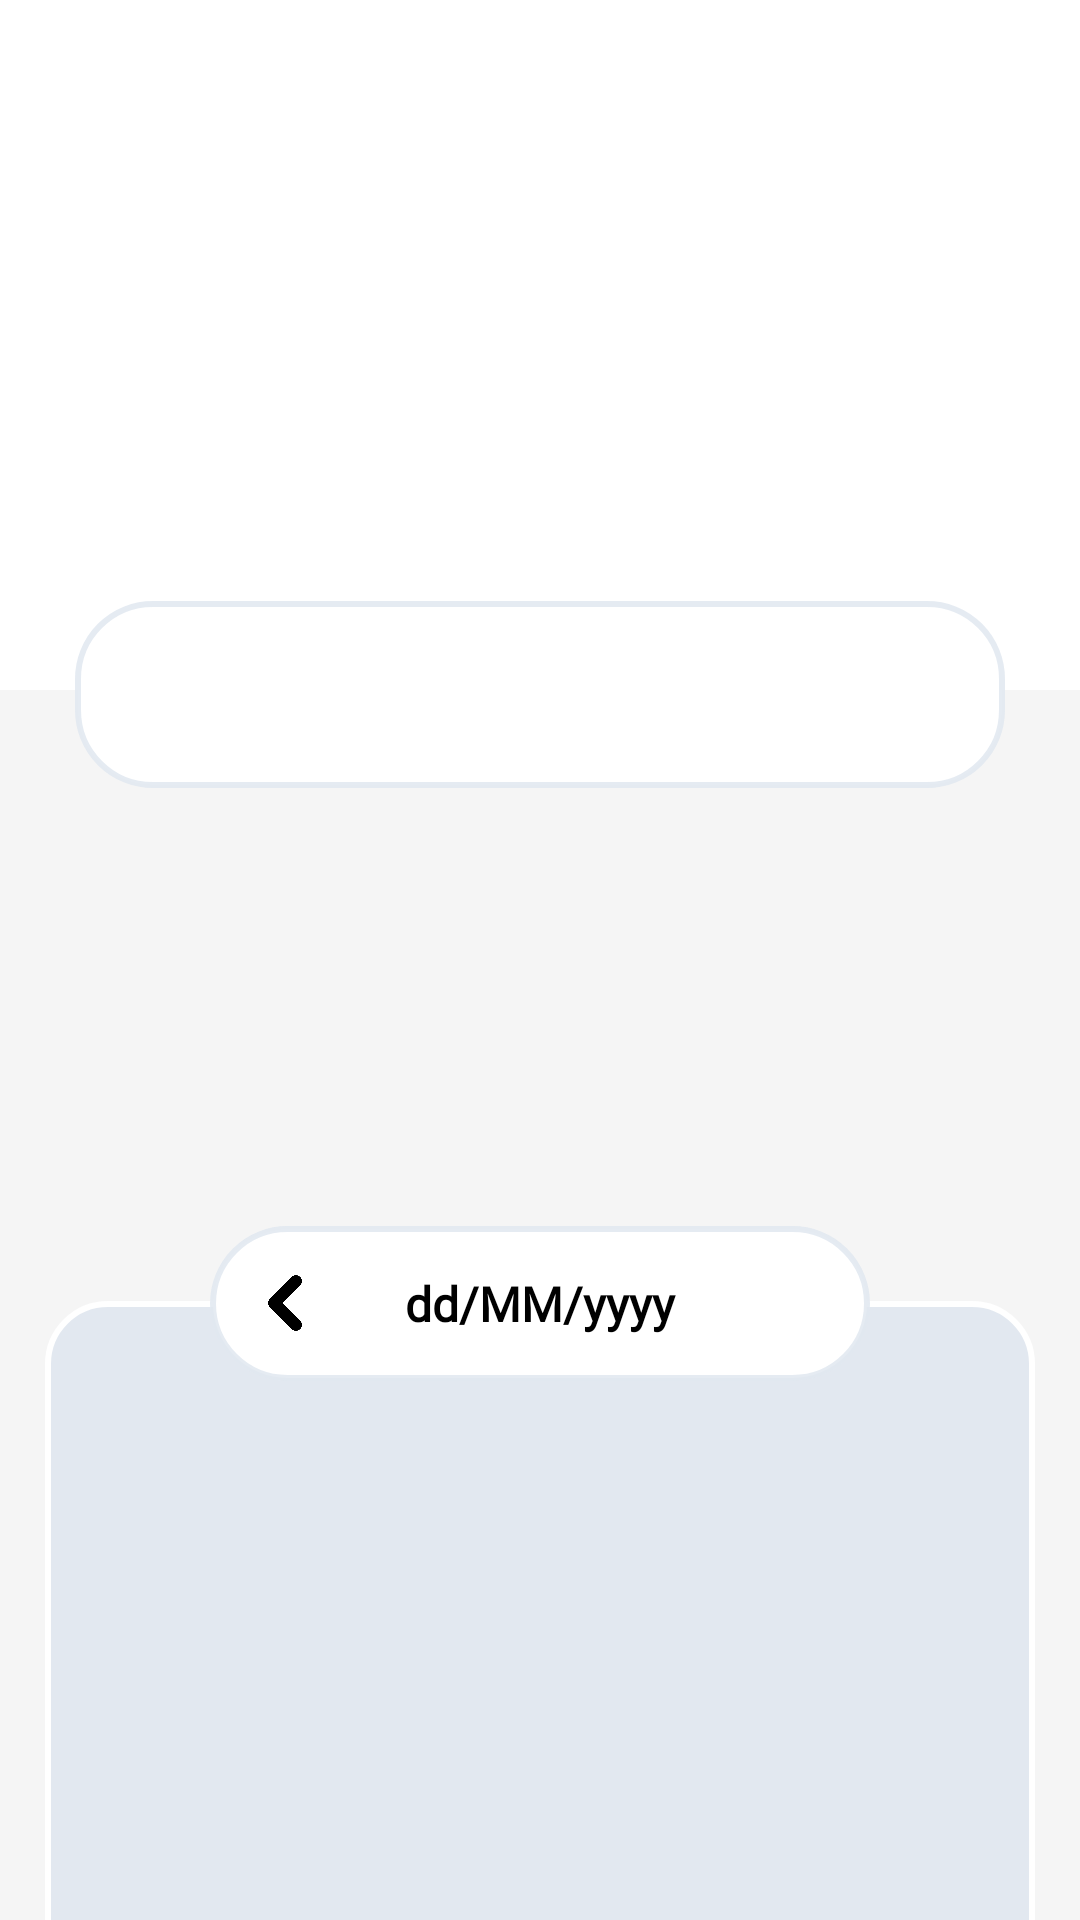

Point at icon controls on the screen. Image size 1080*1920, points as [x,y].
arrow left: [285,1303]
